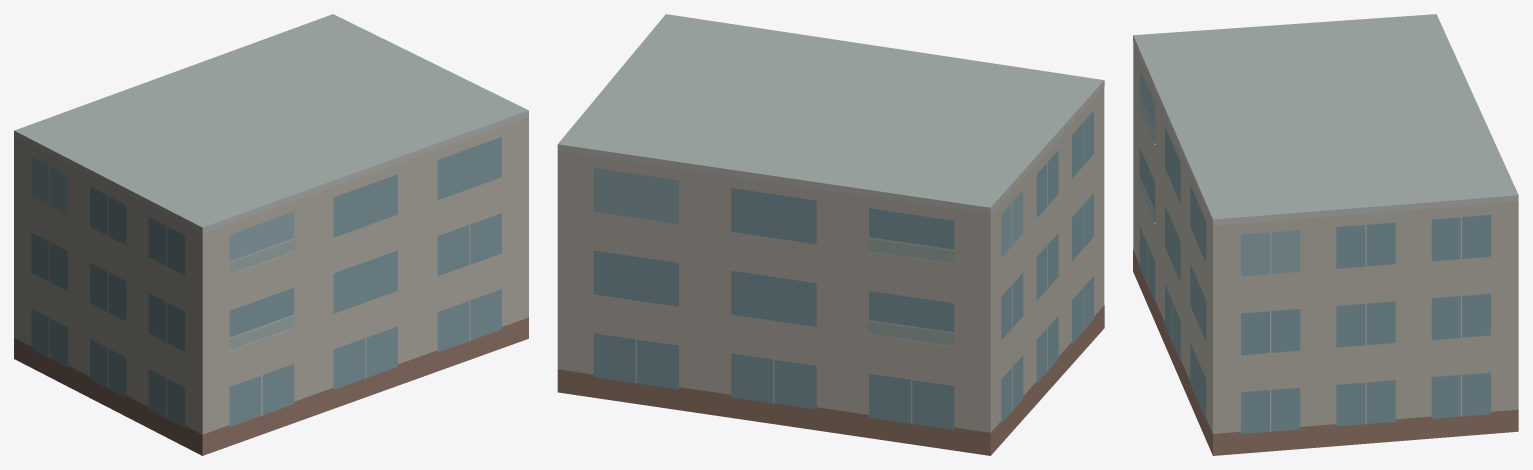
File: survey-upis-32881624.glb
3 renders of one model, left to right at view 1: azimuth 30°, elevation 25°; view 2: azimuth 150°, elevation 25°; view 3: azimuth 270°, elevation 25°, orthographic. The views are drawn at different scales.
Parts seen in each view (by area): view 1: survey-upis-32881624.tmp; view 2: survey-upis-32881624.tmp; view 3: survey-upis-32881624.tmp.
Boxes of the visible parts, left/top/right/bottom form: survey-upis-32881624.tmp: left=14, top=14, right=528, bottom=455; survey-upis-32881624.tmp: left=557, top=14, right=1104, bottom=455; survey-upis-32881624.tmp: left=1133, top=14, right=1518, bottom=455.
Size of the model in its own units: 17.07 by 9.15 by 13.54.
